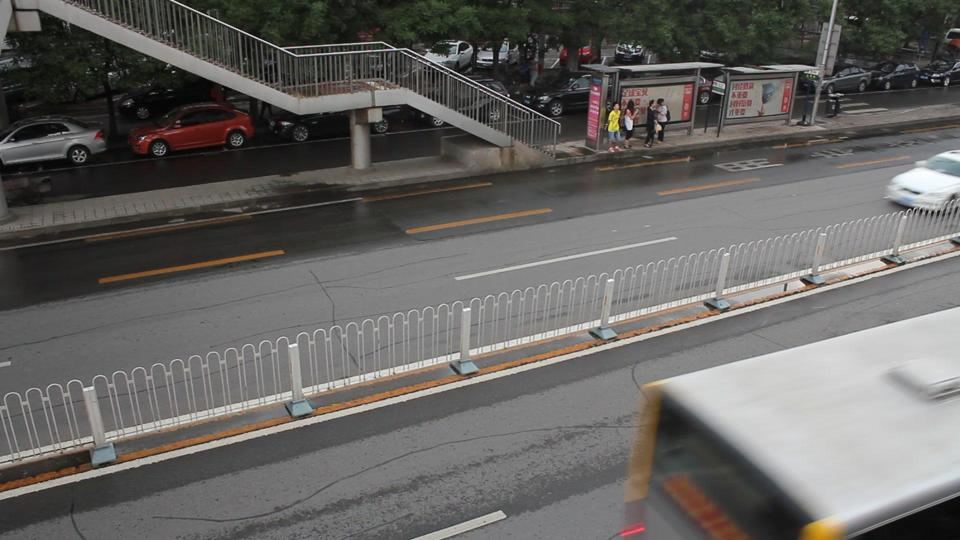car: (633, 309, 960, 540), (127, 104, 260, 158), (0, 116, 109, 168), (885, 150, 960, 211), (116, 84, 230, 121), (517, 75, 596, 117), (820, 66, 890, 94), (425, 40, 476, 72)
person: (645, 98, 670, 148), (605, 104, 626, 150), (620, 103, 636, 149)
